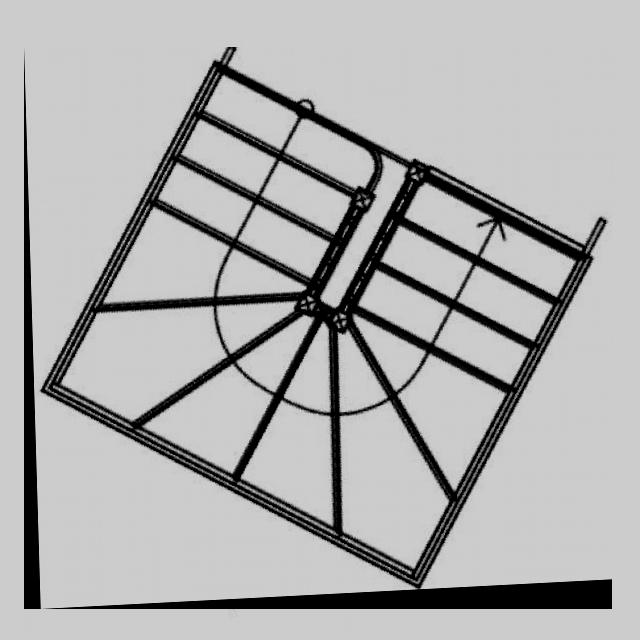stair: (24, 47, 612, 609)
